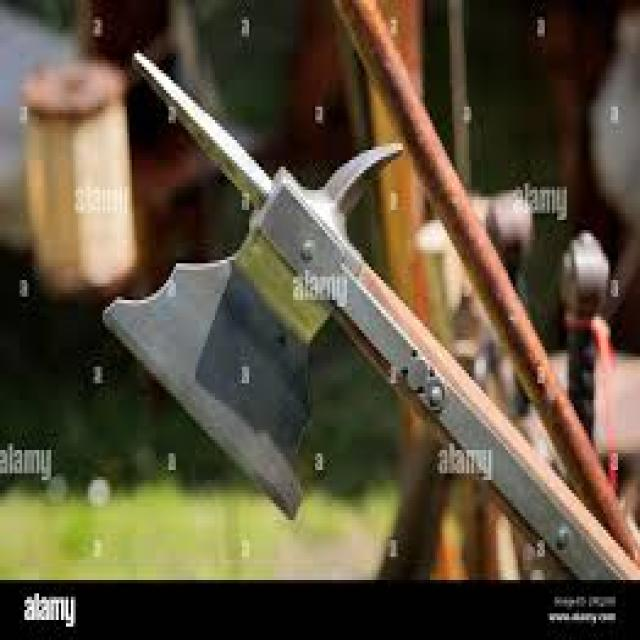Gun: (83, 39, 640, 629)
